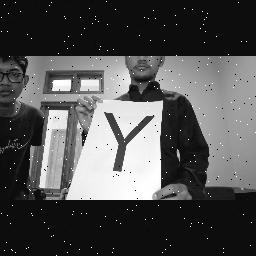y: (100, 110, 160, 174)
